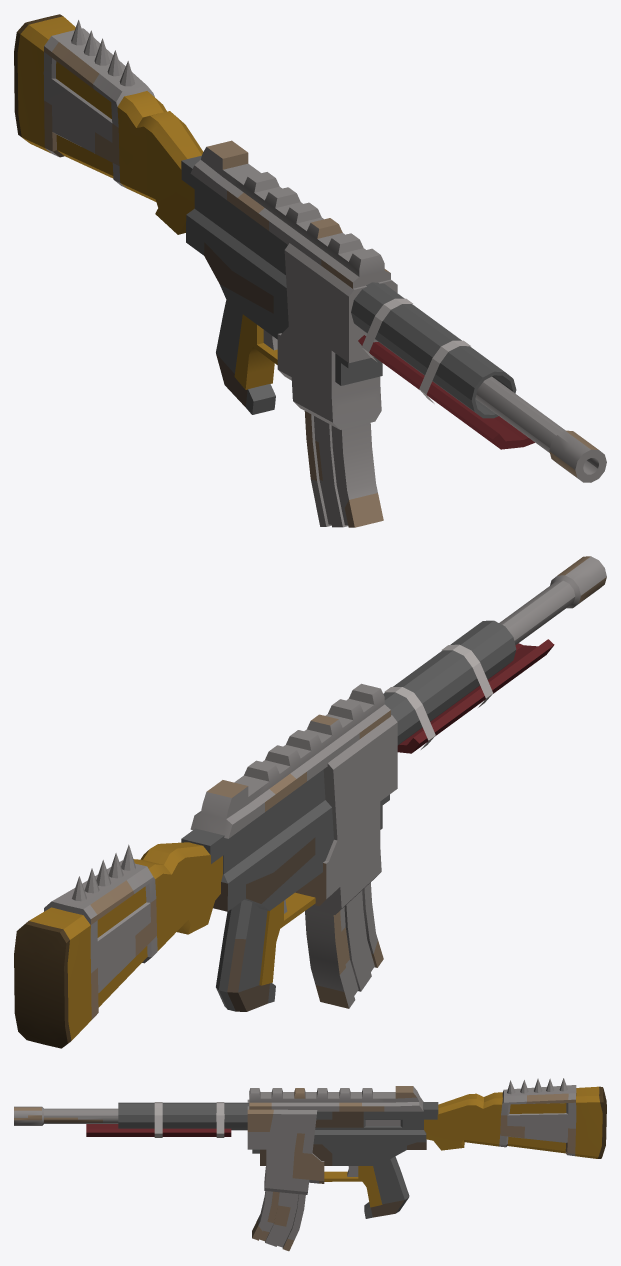
Rendered from Rifle.glb.
3 renders of one model, top to bottom at view 1: azimuth 30°, elevation 25°; view 2: azimuth 150°, elevation 25°; view 3: azimuth 270°, elevation 25°, orthographic. The views are drawn at different scales.
Visible parts, largest first — view 1: Rifle; view 2: Rifle; view 3: Rifle.
Boxes of the visible parts, <box> form: Rifle: <box>14,14,606,527</box>; Rifle: <box>14,556,606,1048</box>; Rifle: <box>14,1078,606,1251</box>.
Size of the model in its own units: 0.1144 by 0.5181 by 1.64.
1 material, 1 textured.
